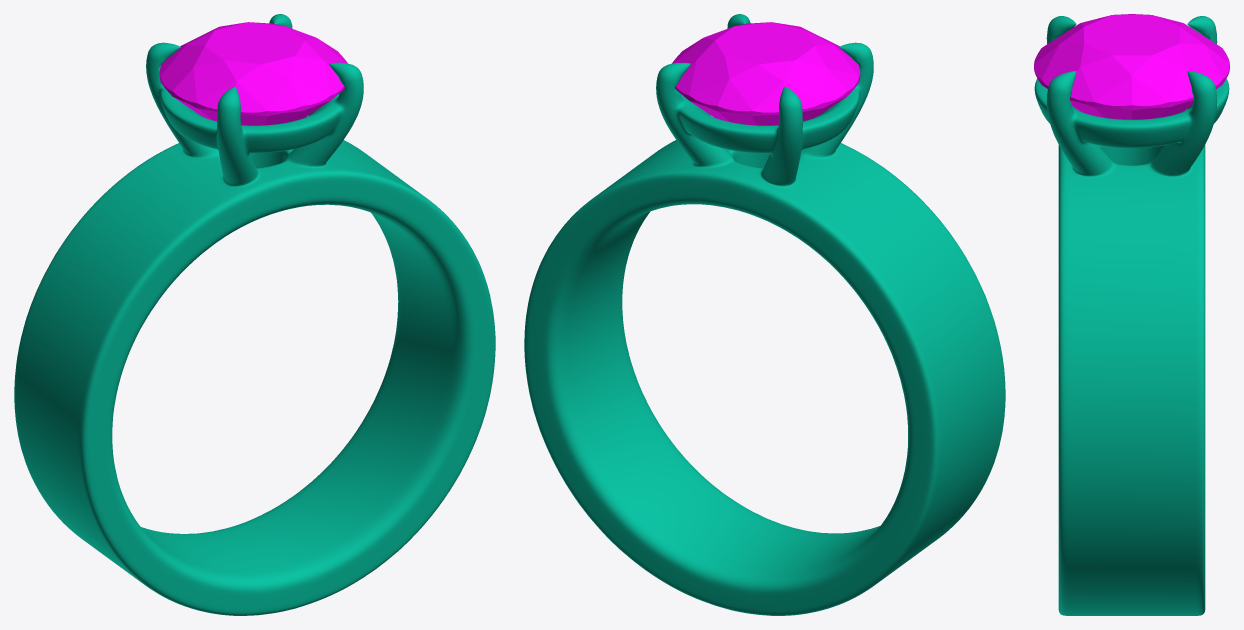
File: BE1258_RD_200ct_RENDER.glb
3 renders of one model, left to right at view 1: azimuth 30°, elevation 25°; view 2: azimuth 150°, elevation 25°; view 3: azimuth 270°, elevation 25°, orthographic. The views are drawn at different scales.
Visible parts, largest first — view 1: Metal 01, CS_Diamond_Round; view 2: Metal 01, CS_Diamond_Round; view 3: Metal 01, CS_Diamond_Round.
Boxes of the visible parts, box(x1,y1,x2,y2) form: Metal 01: box(14, 14, 495, 615); CS_Diamond_Round: box(159, 22, 347, 125); Metal 01: box(524, 14, 1005, 615); CS_Diamond_Round: box(672, 22, 860, 125); Metal 01: box(1034, 16, 1229, 615); CS_Diamond_Round: box(1034, 14, 1229, 119).
Bounding box in the file's own units: 20.1 × 25.14 × 8.
